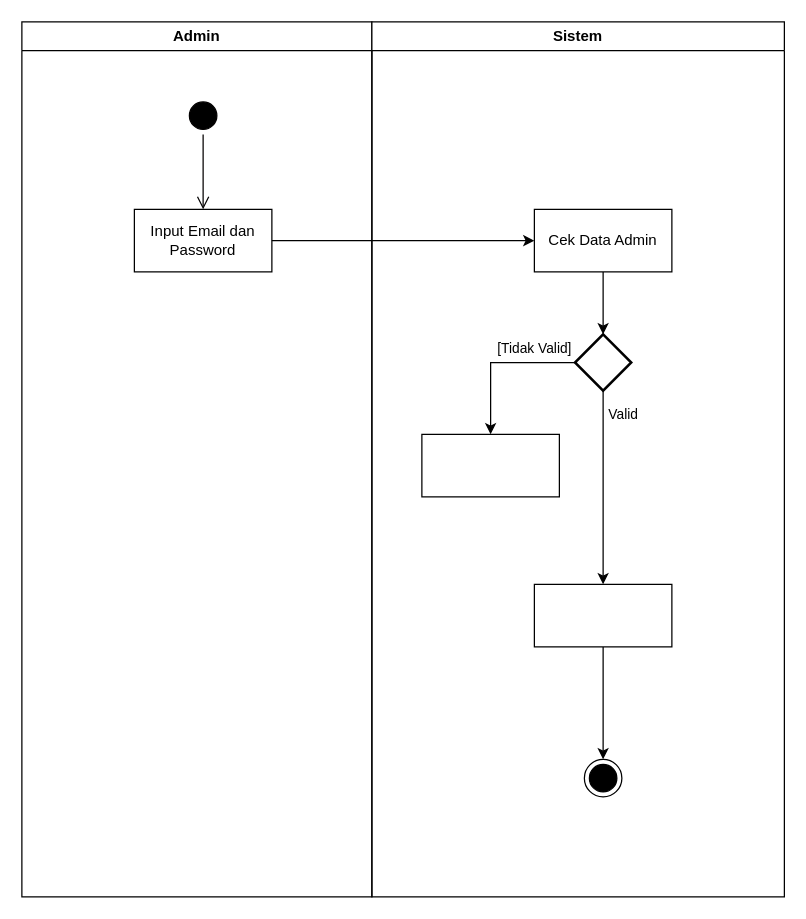
This 806x919 diagram has some shape labels left out. The shapes that lost their labels are listed below. From the top down, each one's centre as x and y in pixels, then its label:
At point 490,465: "Informasi Gagal Login".
At point 602,615: "Halaman Home".
